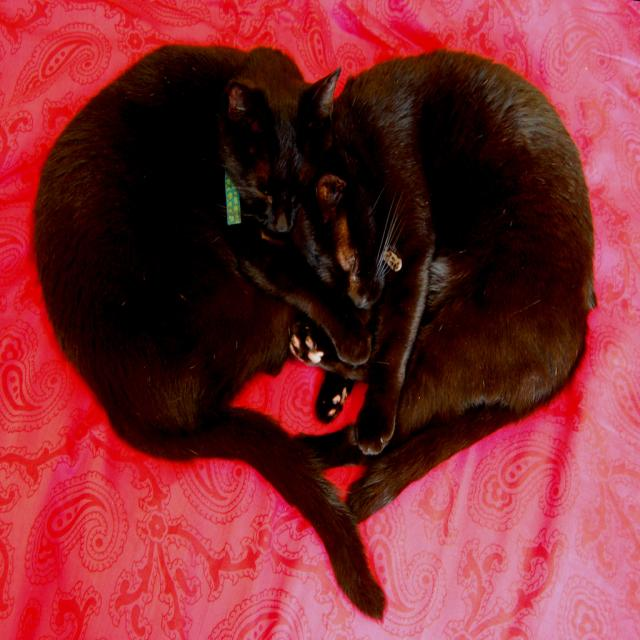Cat: (32, 37, 597, 621)
